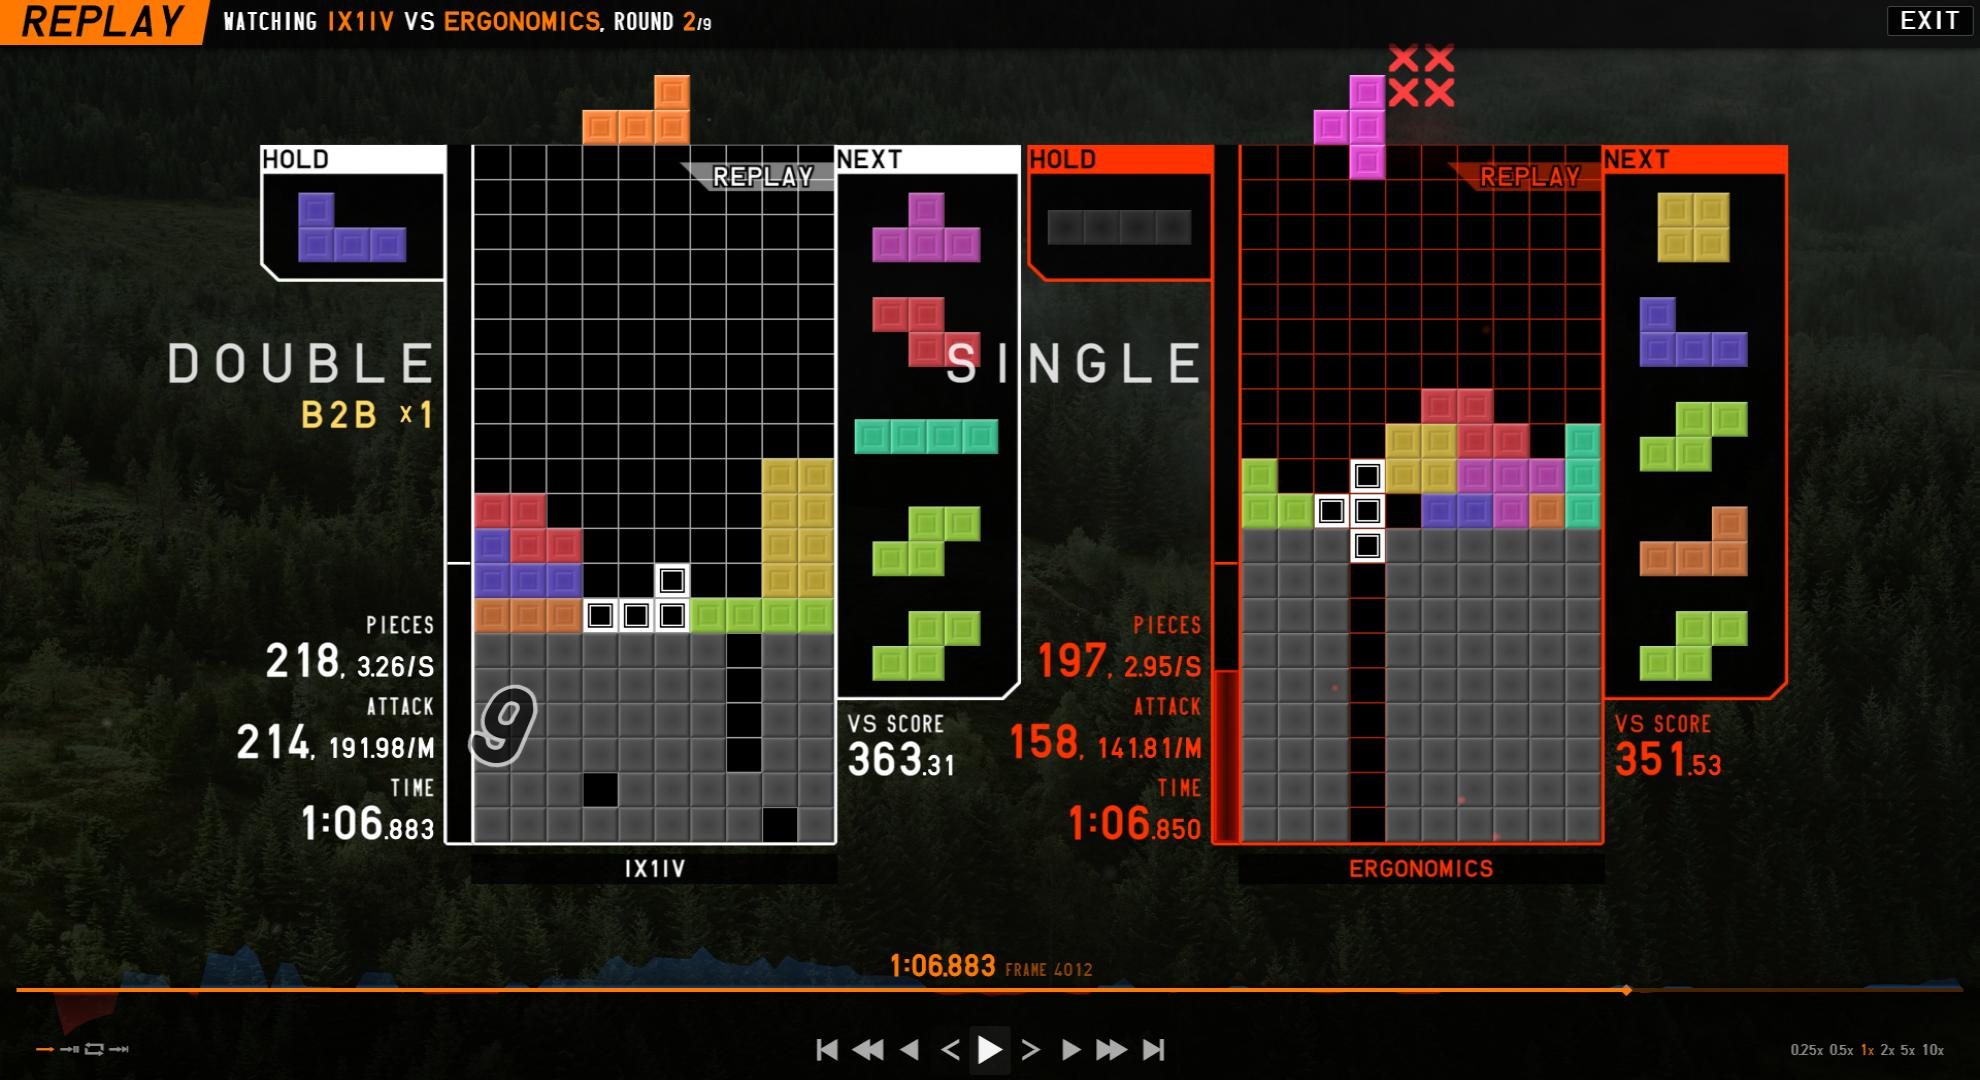tspin: (1319, 458, 1429, 567)
